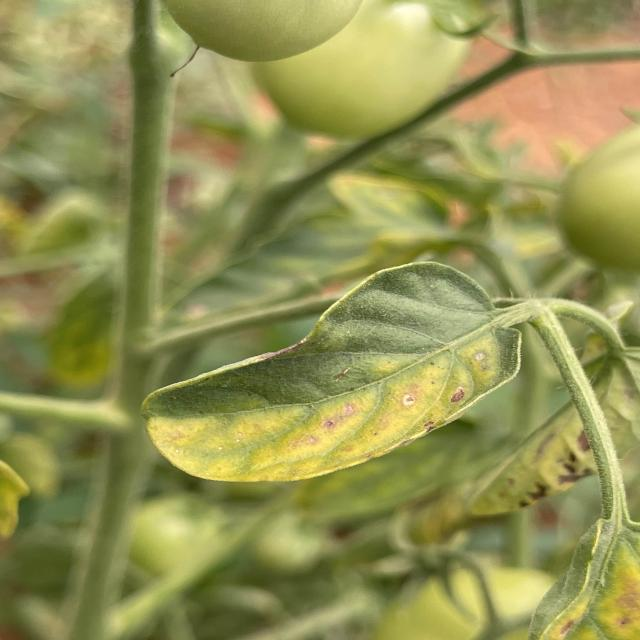tomato_early blight: (142, 262, 520, 482), (462, 382, 609, 516), (529, 506, 640, 640)
